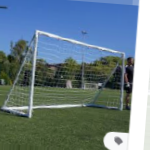goals: (3, 28, 128, 118)
